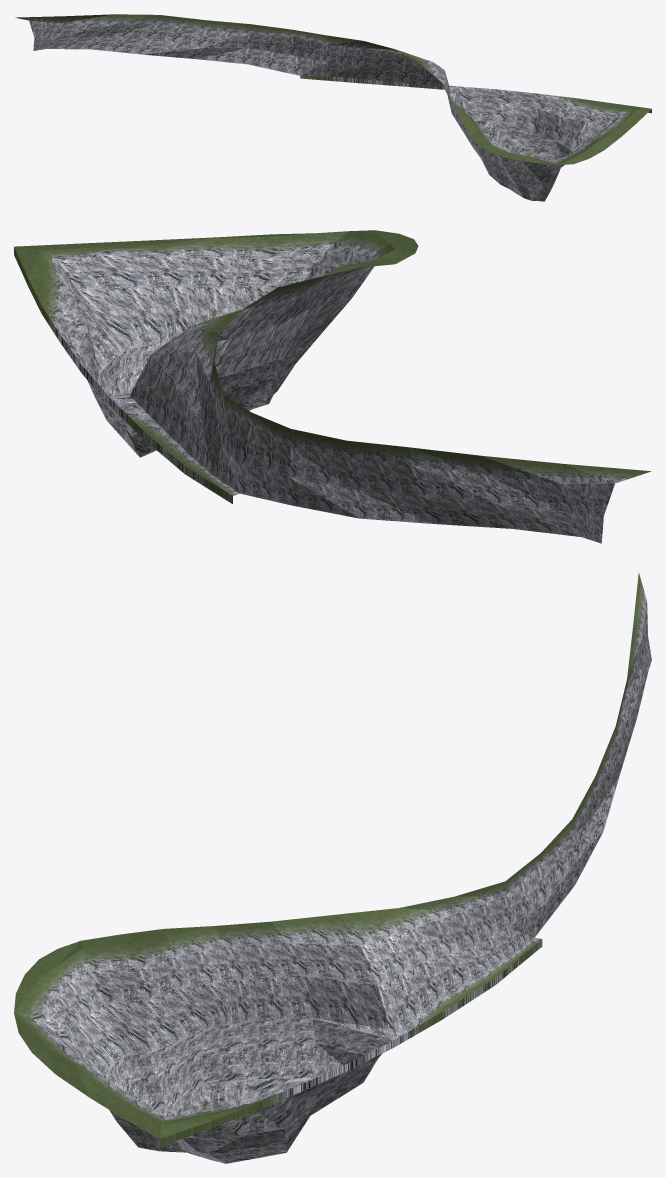
File: hc_laybyland_sfs.obj
3 views of the same model, one above another, from view 1: azimuth 30°, elevation 25°; view 2: azimuth 150°, elevation 25°; view 3: azimuth 270°, elevation 25° (orthographic). The views are drawn at different scales.
Parts seen in each view (by area): view 1: hc_laybyland_SFS; view 2: hc_laybyland_SFS; view 3: hc_laybyland_SFS.
Part boxes in pixels (x1,y1,x2,y2): hc_laybyland_SFS: (15,14,651,201); hc_laybyland_SFS: (14,230,650,543); hc_laybyland_SFS: (14,572,651,1163).
Size of the model in its own units: 245 by 78.4 by 167.
Materials: 3 (3 with a texture image).
